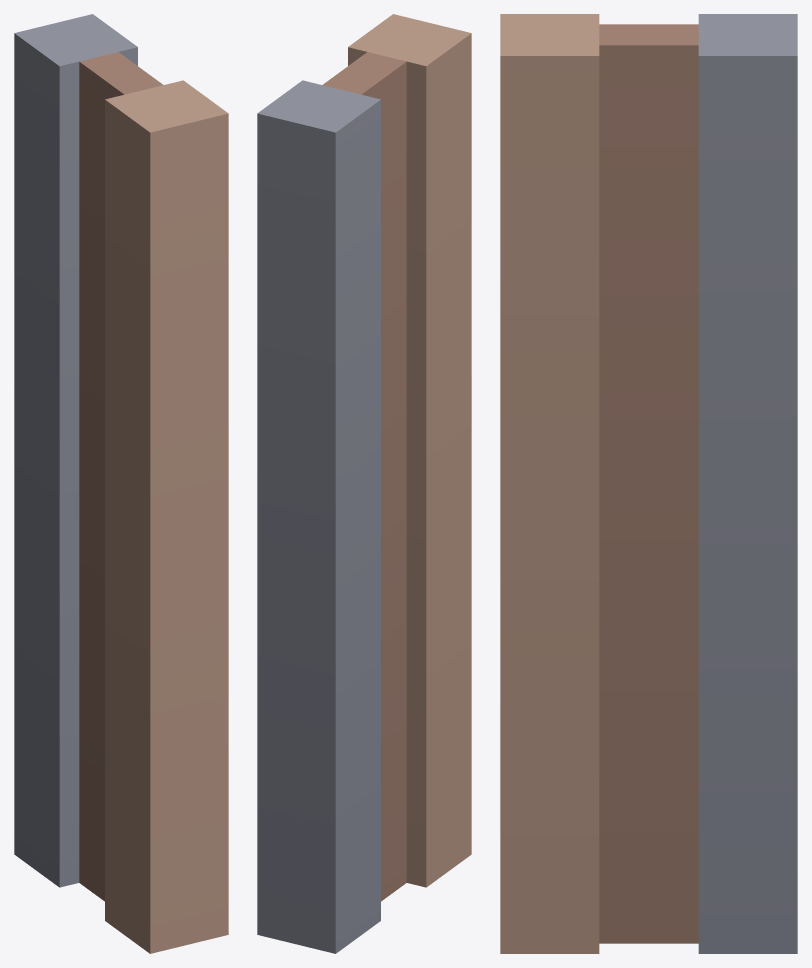
The model's file is wall-wood-arch.glb.
3 renders of one model, left to right at view 1: azimuth 30°, elevation 25°; view 2: azimuth 150°, elevation 25°; view 3: azimuth 270°, elevation 25°, orthographic. The views are drawn at different scales.
Parts seen in each view (by area): view 1: wall-wood-arch; view 2: wall-wood-arch; view 3: wall-wood-arch.
Boxes of the visible parts, bbox=[...] form: wall-wood-arch: bbox=[14, 14, 228, 953]; wall-wood-arch: bbox=[257, 14, 471, 953]; wall-wood-arch: bbox=[500, 14, 797, 953].
Bounding box in the file's own units: 0.1 × 1 × 0.3.
